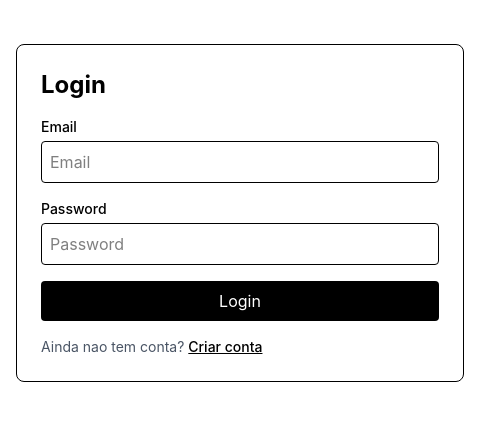
Test: LoginPage › shows a server error when login fails
This screenshot has width=481, height=427.
Type "ada@example.com" into the field labelled "Email".
click(240, 162); type("ada@example.com")  # box [41,141,439,183]
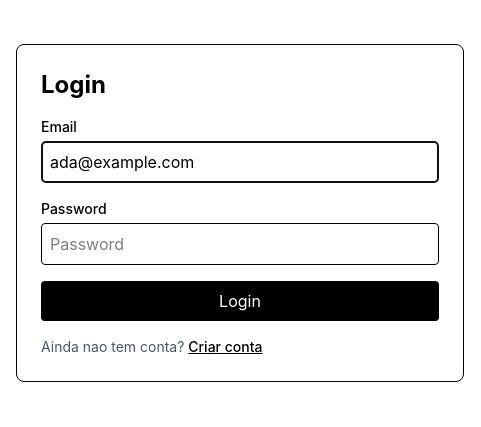
Type "secret123" into the password field labelled "Password".
click(240, 244); type("secret123")  # box [41,223,439,265]
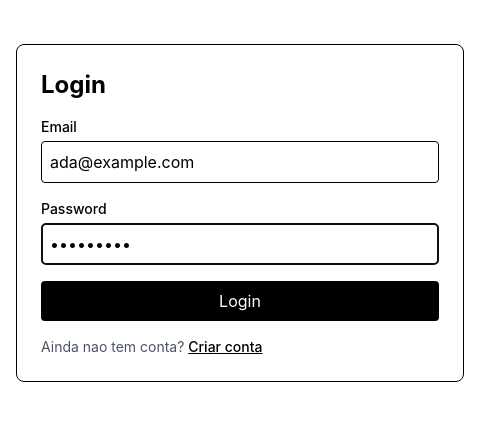
Click the button "Login".
click(240, 301)  # box [41,281,439,321]
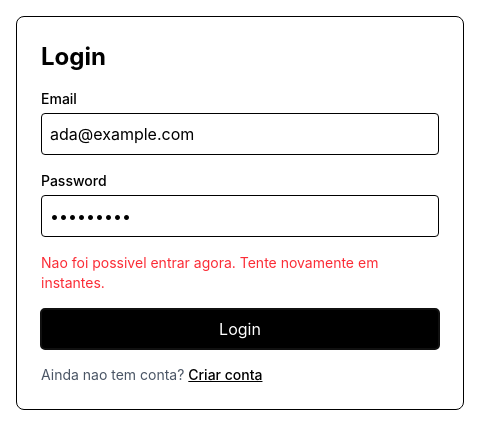
Expected: the message reads "Nao foi possivel entrar agora. Tente novamente em instantes.", [41,254,378,291]
